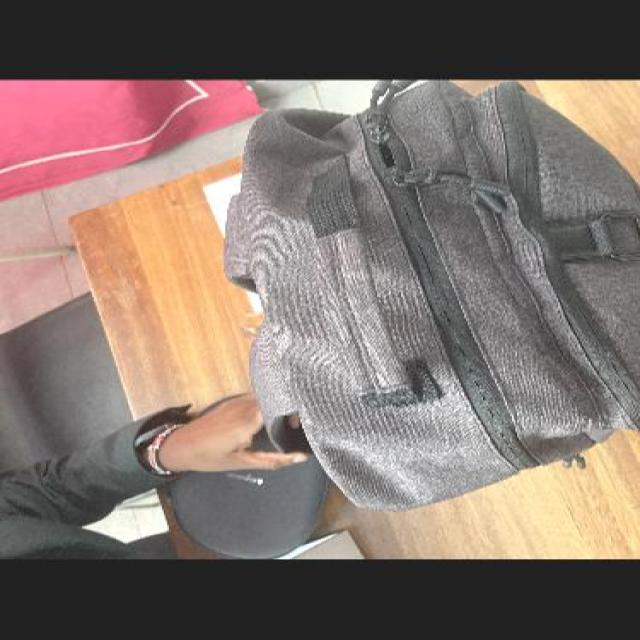canta: (218, 79, 640, 512)
